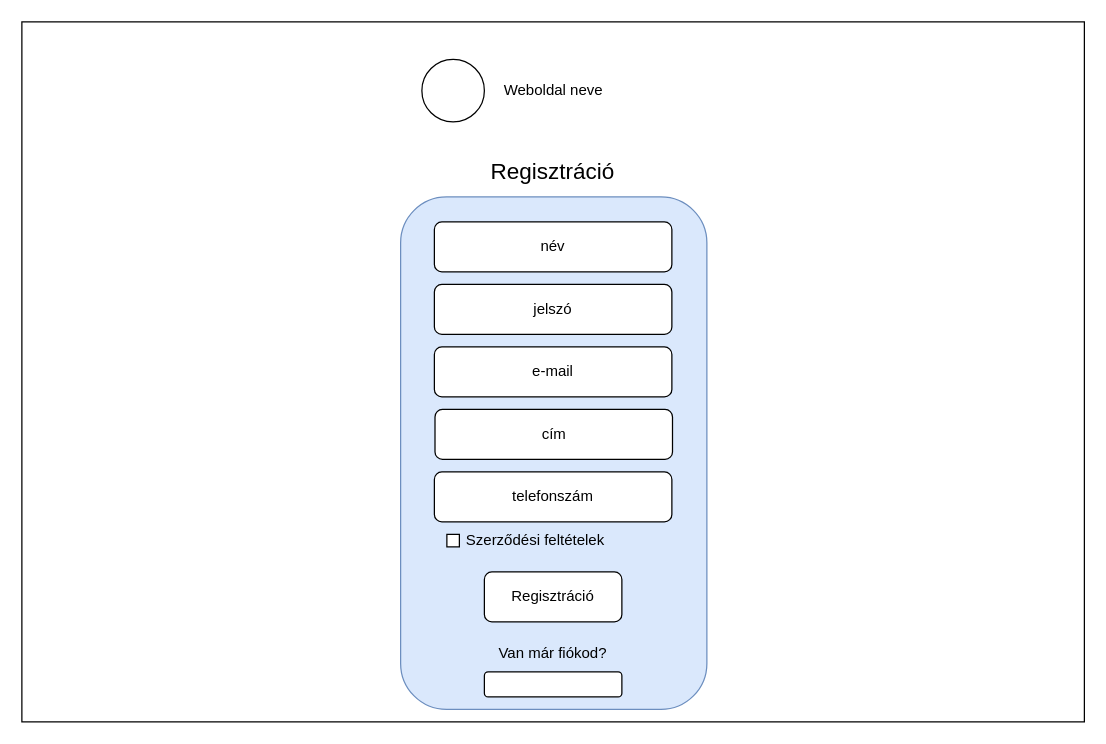
The diagram is 1106 pixels wide and 744 high, and some of its shapes have lost their labels. The box of each missing label's shape, as (x1, y1, x2, y2) in pixels:
Bejelentkezés: (483, 671, 622, 697)
Logo: (421, 58, 484, 122)
